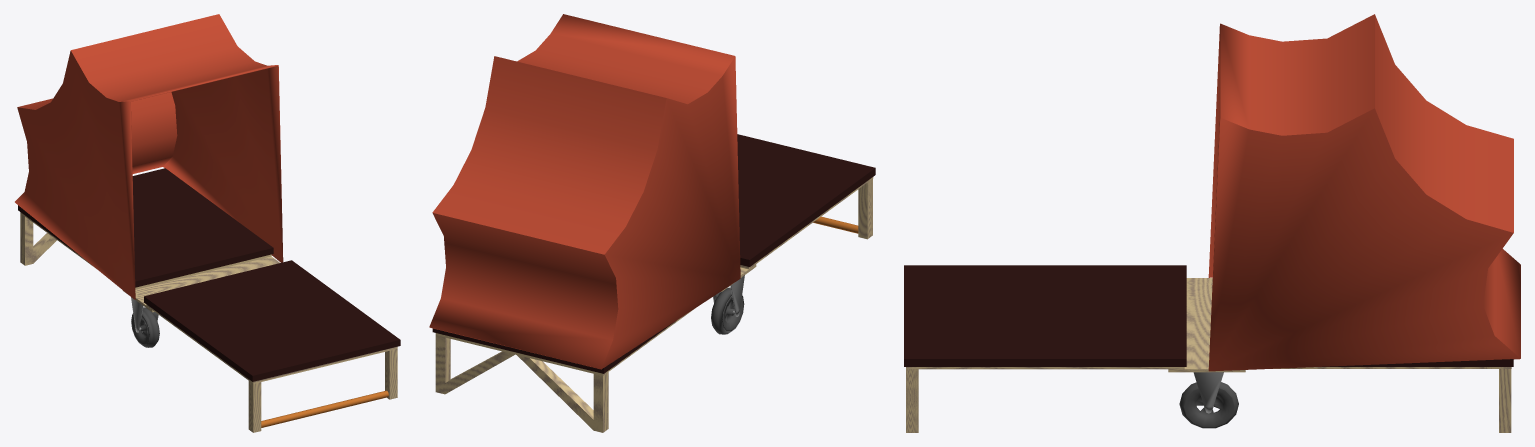
The model's file is modelo_habican.glb.
3 renders of one model, left to right at view 1: azimuth 30°, elevation 25°; view 2: azimuth 150°, elevation 25°; view 3: azimuth 270°, elevation 25°, orthographic. The views are drawn at different scales.
Visible parts, largest first — view 1: Cylinder, Cube, Cube.001, tabla base m1.001, Cylinder.001, patita m1.002, ruedas m1.001, patita m1.006, base m1.002, patita m1.004, base m1.003; view 2: Cylinder, Cube, patita m1.002, Cube.001, ruedas m1.001, patita m1.006, base m1.003; view 3: Cylinder, Cube, tabla base m1.001, ruedas m1.001, Cube.001, base m1.002, patita m1.002, patita m1.004, cubre ruedas m1.001.
Boxes of the visible parts, x1=… form: Cylinder: x1=15, y1=14, x2=283, y2=299; Cube: x1=144, y1=260, x2=400, y2=381; Cube.001: x1=18, y1=168, x2=273, y2=287; tabla base m1.001: x1=123, y1=256, x2=279, y2=312; Cylinder.001: x1=261, y1=390, x2=388, y2=427; patita m1.002: x1=20, y1=213, x2=56, y2=265; ruedas m1.001: x1=131, y1=307, x2=159, y2=347; patita m1.006: x1=248, y1=381, x2=261, y2=432; base m1.002: x1=146, y1=304, x2=397, y2=383; patita m1.004: x1=385, y1=349, x2=397, y2=399; base m1.003: x1=20, y1=212, x2=271, y2=289; Cylinder: x1=429, y1=14, x2=740, y2=369; Cube: x1=737, y1=134, x2=875, y2=266; patita m1.002: x1=435, y1=335, x2=608, y2=432; Cube.001: x1=432, y1=320, x2=676, y2=373; ruedas m1.001: x1=711, y1=287, x2=744, y2=334; patita m1.006: x1=858, y1=179, x2=872, y2=239; base m1.003: x1=435, y1=308, x2=695, y2=375; Cylinder: x1=1208, y1=14, x2=1520, y2=371; Cube: x1=904, y1=265, x2=1186, y2=366; tabla base m1.001: x1=1168, y1=278, x2=1245, y2=372; ruedas m1.001: x1=1179, y1=382, x2=1238, y2=428; Cube.001: x1=1322, y1=359, x2=1513, y2=366; base m1.002: x1=906, y1=367, x2=1184, y2=369; patita m1.002: x1=1499, y1=369, x2=1511, y2=432; patita m1.004: x1=906, y1=369, x2=918, y2=432; cubre ruedas m1.001: x1=1193, y1=372, x2=1223, y2=413.
Size of the model in its own units: 1.49 by 2.42 by 4.13.
6 materials, 1 textured.
